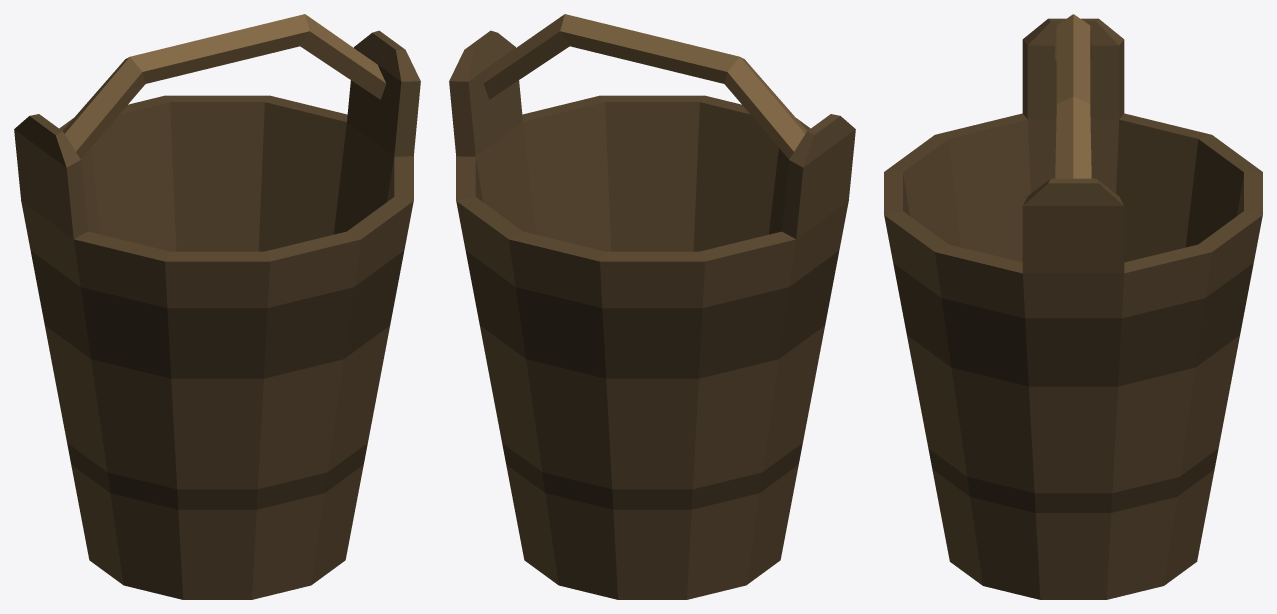
Rendered from Bucket_2_Brown.fbx.
3 renders of one model, left to right at view 1: azimuth 30°, elevation 25°; view 2: azimuth 150°, elevation 25°; view 3: azimuth 270°, elevation 25°, orthographic. The views are drawn at different scales.
Visible parts, largest first — view 1: Bucket_2_Brown_Part_1, Bucket_2_Brown_Part_3, Bucket_2_Brown_Part_2; view 2: Bucket_2_Brown_Part_1, Bucket_2_Brown_Part_3, Bucket_2_Brown_Part_2; view 3: Bucket_2_Brown_Part_1, Bucket_2_Brown_Part_3, Bucket_2_Brown_Part_2.
Part boxes in pixels (x1,y1,x2,y2): Bucket_2_Brown_Part_1: [14, 30, 420, 599]; Bucket_2_Brown_Part_3: [30, 251, 404, 509]; Bucket_2_Brown_Part_2: [63, 14, 386, 159]; Bucket_2_Brown_Part_1: [449, 30, 855, 599]; Bucket_2_Brown_Part_3: [465, 251, 839, 509]; Bucket_2_Brown_Part_2: [483, 14, 806, 159]; Bucket_2_Brown_Part_1: [884, 18, 1262, 599]; Bucket_2_Brown_Part_3: [893, 263, 1253, 512]; Bucket_2_Brown_Part_2: [1054, 14, 1092, 178].
Bounding box in the file's own units: 50.31 × 69.28 × 48.3.
